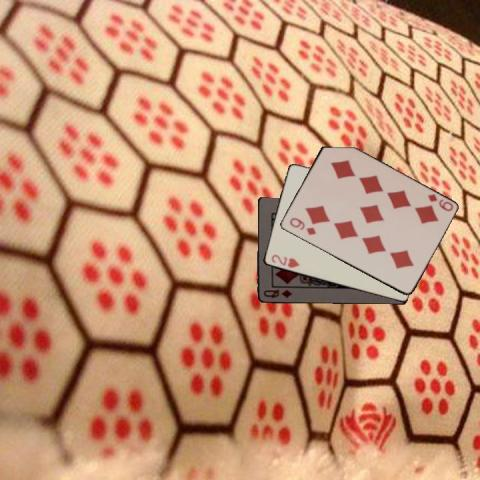2h: (268, 252, 301, 270)
9d: (287, 214, 317, 236), (424, 191, 454, 213)
Qd: (261, 286, 293, 300)
